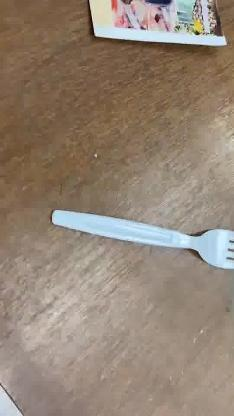Others: (50, 208, 234, 268)
